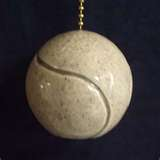tennis ball: (24, 29, 134, 142)
